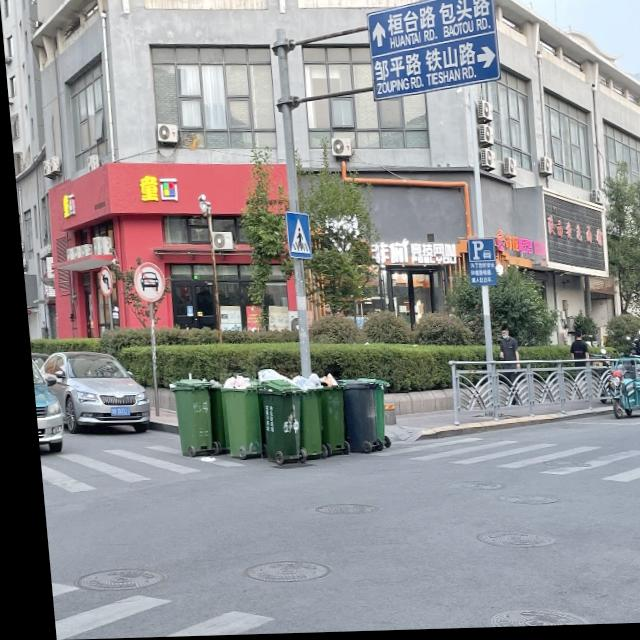garbage_bin: (162, 376, 208, 454), (332, 382, 372, 450), (350, 378, 385, 444)
overflow: (248, 369, 299, 462), (212, 374, 257, 458), (283, 373, 320, 458), (308, 374, 340, 452), (200, 380, 221, 449)
